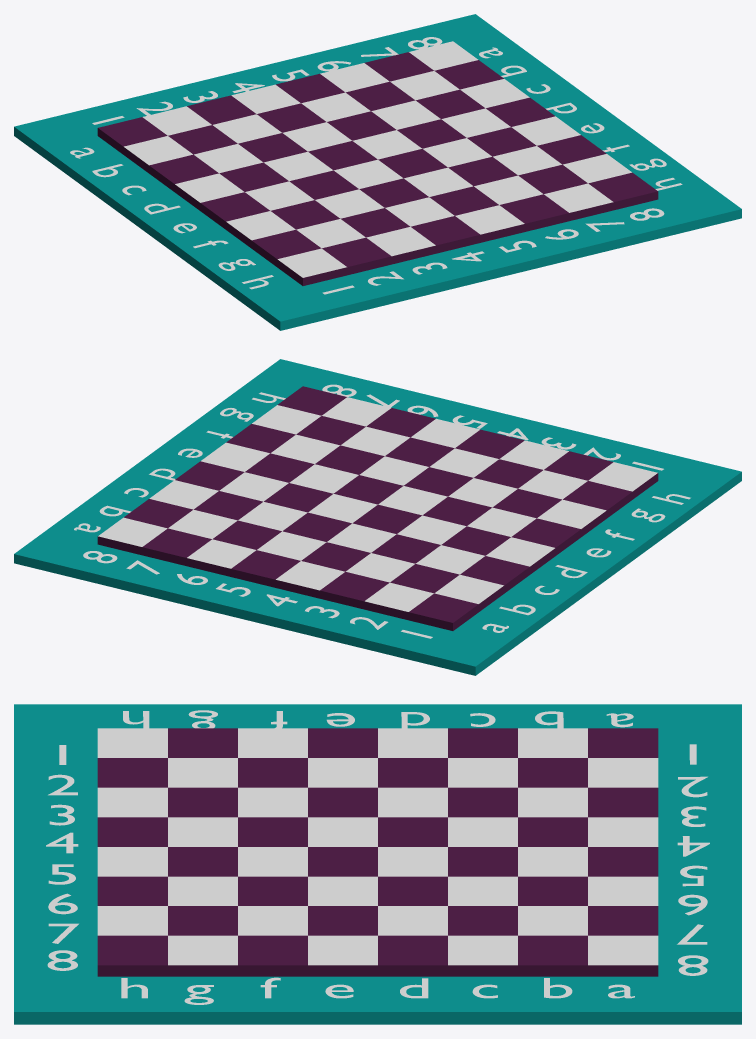
File: Board_SpaceOddyssey_Final.fbx
3 views of the same model, one above another, from view 1: azimuth 30°, elevation 25°; view 2: azimuth 150°, elevation 25°; view 3: azimuth 270°, elevation 25° (orthographic). The views are drawn at different scales.
Visible parts, largest first — view 1: Cube, Cube.001; view 2: Cube, Cube.001; view 3: Cube, Cube.001.
Boxes of the visible parts, x1,y1,x2,y2 form: Cube: (97,41,658,285); Cube.001: (14,14,741,330); Cube: (97,386,658,630); Cube.001: (14,359,741,675); Cube: (97,728,658,976); Cube.001: (14,704,741,1024).
Bounding box in the file's own units: 1039 × 37.72 × 1039.
